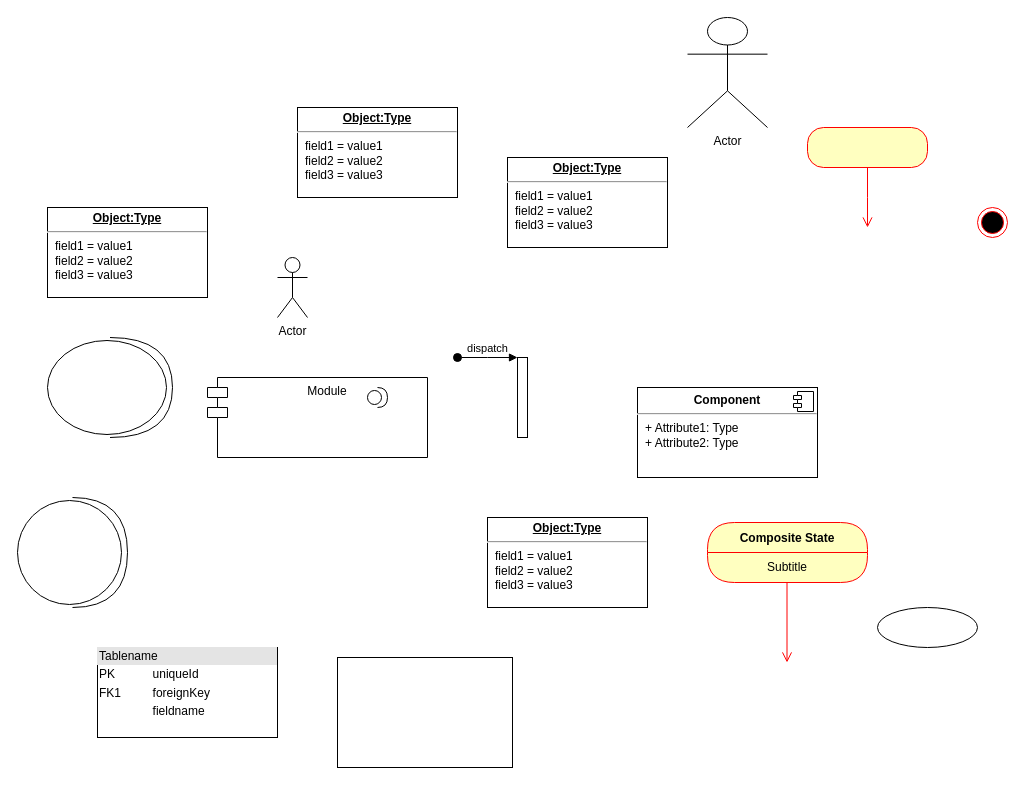
Image size: 1025x785. Some labels were removed from this diagram. Here are the shapes that lost their labels. From the top down, the centre of each, then its label:
(867,147): Activity
(927,627): Attribute
